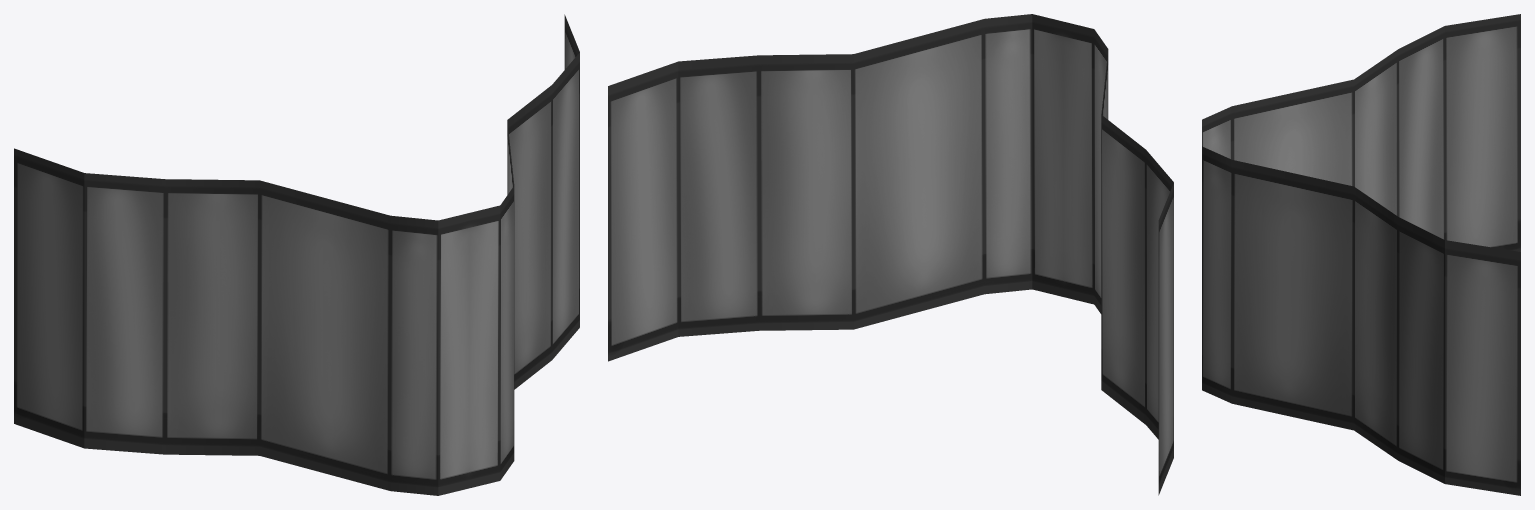
The model's file is frontbuilding.fbx.
3 renders of one model, left to right at view 1: azimuth 30°, elevation 25°; view 2: azimuth 150°, elevation 25°; view 3: azimuth 270°, elevation 25°, orthographic. The views are drawn at different scales.
Parts seen in each view (by area): view 1: pCube3; view 2: pCube3; view 3: pCube3.
Part boxes in pixels (left/top/right/bottom): pCube3: left=14, top=14, right=579, bottom=495; pCube3: left=608, top=14, right=1173, bottom=495; pCube3: left=1202, top=14, right=1520, bottom=495.
Size of the model in its own units: 209 by 100 by 118.
